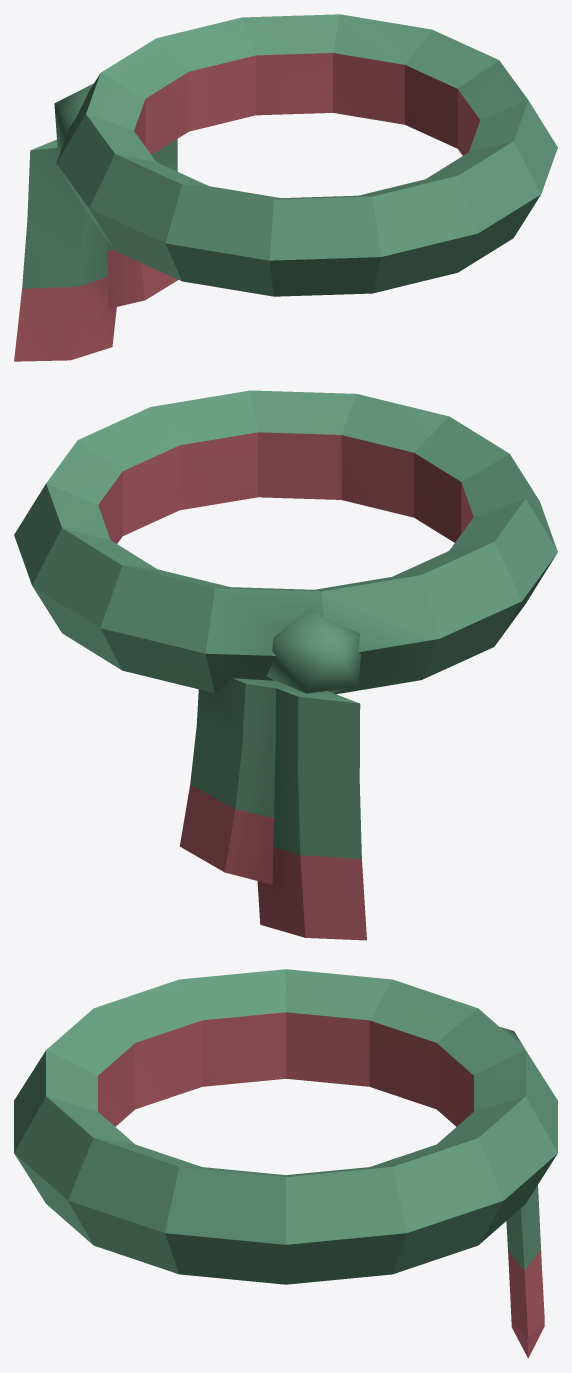
The model's file is resident_scarf_green_low.glb.
3 views of the same model, one above another, from view 1: azimuth 30°, elevation 25°; view 2: azimuth 150°, elevation 25°; view 3: azimuth 270°, elevation 25° (orthographic). The views are drawn at different scales.
Size of the model in its own units: 1.52 by 0.9975 by 1.48.
